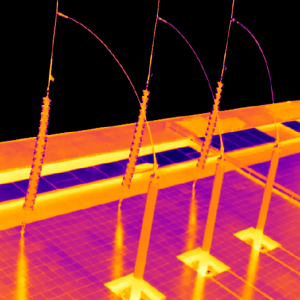insulator: (22, 95, 52, 211), (120, 89, 151, 189), (195, 81, 223, 169)
